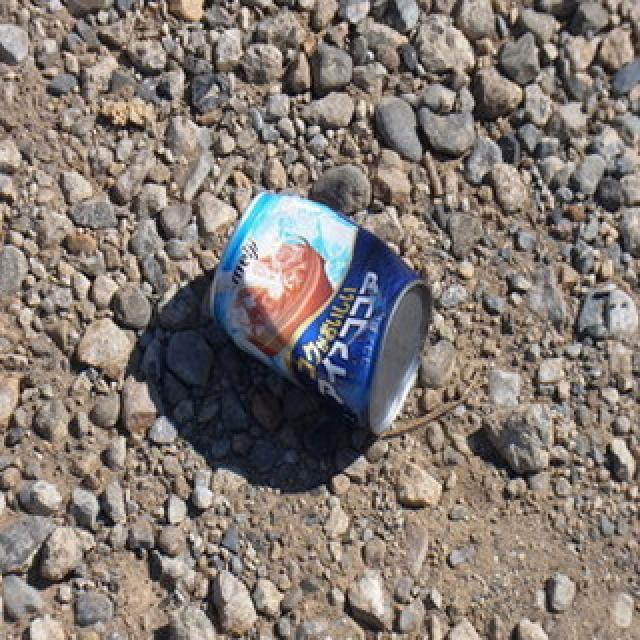recyclable: (207, 189, 434, 440)
